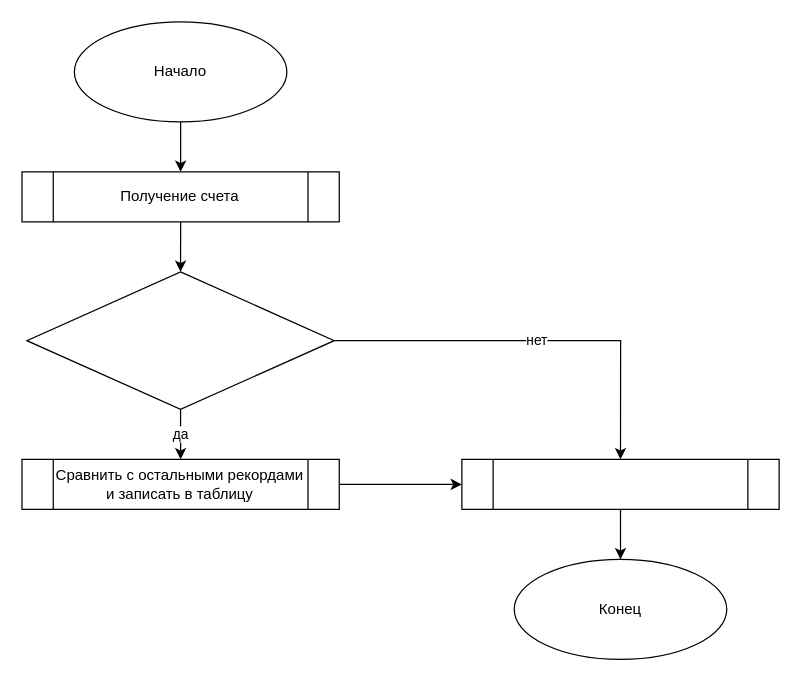
Some shapes in this 801 by 681 pixel diagram are drawn without their labels. The shapes that lost their labels are listed below. From the top down, each one's centre as x and y in pixels, then its label:
(x=180, y=340): Счет меньше по времени чем последний рекорд в таблице?
(x=620, y=483): Вывести таблицу
